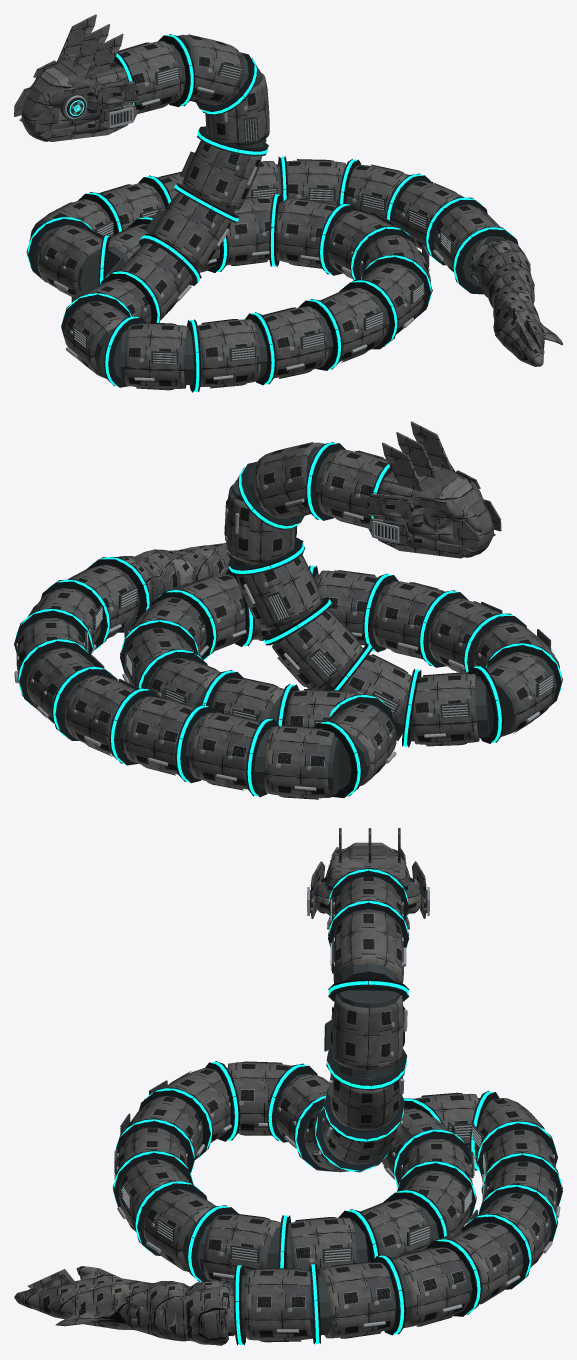
Rendered from snake-sectional.glb.
The picture shows the model from 3 angles, top to bottom: view 1: azimuth 30°, elevation 25°; view 2: azimuth 150°, elevation 25°; view 3: azimuth 270°, elevation 25°; orthographic projection. The views are drawn at different scales.
Visible parts, largest first — view 1: Head, Tail, Segment_08, Segment_09, Segment_19, Segment_03, Segment_10, Segment_04, Segment_00, Segment_01, Segment_11, Segment_15 (+33 smaller); view 2: Head, Segment_20, Segment_06, Segment_04, Segment_21, Segment_03, Segment_07, Segment_22, Segment_00, Segment_01, Segment_10, Segment_23 (+39 smaller); view 3: Tail, Segment_02, Segment_26, Segment_27, Segment_01, Segment_25, Head, Segment_13, Segment_14, Segment_12, Segment_24, Segment_15 (+41 smaller).
Boxes of the visible parts, x1,y1,x2,y2 form: Head: (14, 14, 138, 141); Tail: (468, 236, 562, 366); Segment_08: (120, 322, 193, 390); Segment_09: (188, 319, 267, 388); Segment_19: (34, 224, 109, 296); Segment_03: (180, 132, 262, 213); Segment_10: (253, 306, 333, 378); Segment_04: (145, 192, 231, 271); Segment_00: (118, 41, 185, 113); Segment_01: (178, 34, 248, 105); Segment_11: (314, 287, 389, 362); Segment_15: (276, 199, 343, 268); Head: (366, 421, 501, 558); Segment_20: (254, 725, 339, 799); Segment_06: (410, 672, 489, 746); Segment_04: (272, 606, 363, 689); Segment_21: (185, 712, 270, 790); Segment_03: (237, 545, 322, 635); Segment_07: (475, 652, 556, 736); Segment_22: (119, 696, 199, 775); Segment_00: (315, 449, 387, 528); Segment_01: (248, 442, 324, 519); Segment_10: (372, 581, 447, 659); Segment_23: (61, 675, 141, 756); Tail: (14, 1266, 235, 1345); Segment_02: (324, 990, 407, 1078); Segment_26: (317, 1261, 396, 1338); Segment_27: (241, 1268, 313, 1342); Segment_01: (330, 909, 406, 990); Segment_25: (390, 1247, 472, 1327); Head: (307, 828, 429, 929); Segment_13: (200, 1213, 280, 1285); Segment_14: (286, 1217, 367, 1270); Segment_12: (143, 1189, 216, 1271); Segment_24: (441, 1222, 523, 1304); Segment_15: (351, 1198, 438, 1261).
Bounding box in the file's own units: 7.46 × 4.93 × 7.28.
Materials: 12 (3 with a texture image).
